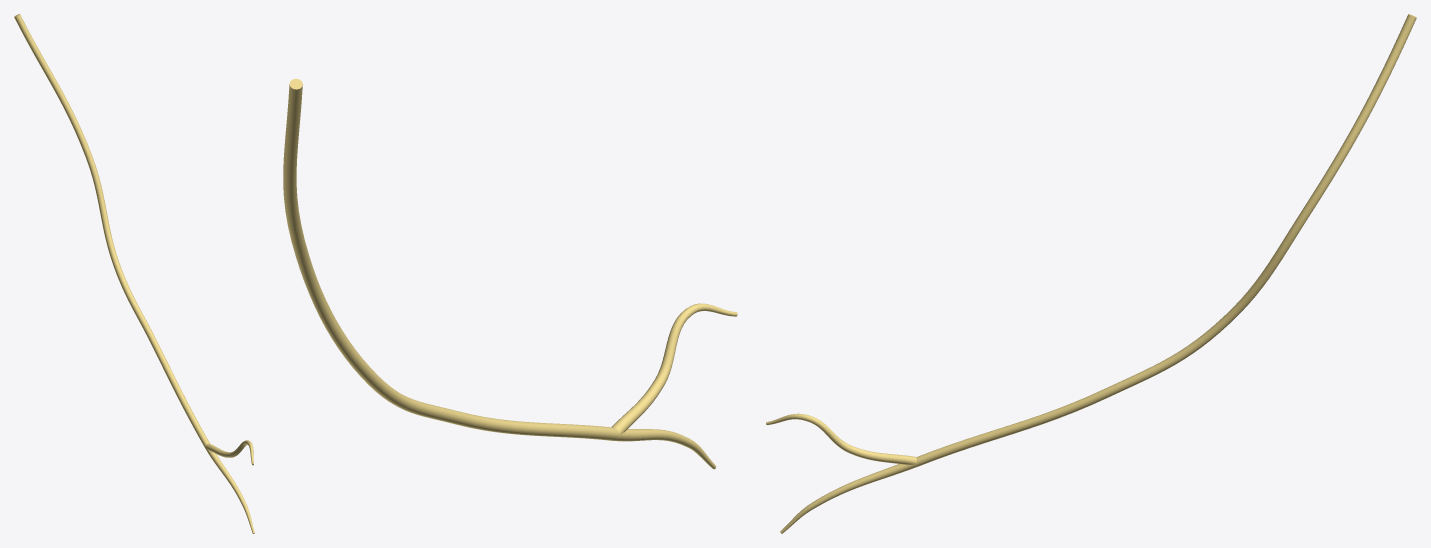
3 views of the same model, side by side, from view 1: azimuth 30°, elevation 25°; view 2: azimuth 150°, elevation 25°; view 3: azimuth 270°, elevation 25° (orthographic). The views are drawn at different scales.
Visible parts, largest first — view 1: ZA_e64922e48c2805ea; view 2: ZA_e64922e48c2805ea; view 3: ZA_e64922e48c2805ea.
Boxes of the visible parts, x1,y1,x2,y2 form: ZA_e64922e48c2805ea: (14, 14, 254, 533); ZA_e64922e48c2805ea: (283, 78, 737, 469); ZA_e64922e48c2805ea: (766, 14, 1416, 533).
Bounding box in the file's own units: 0.00426 × 0.0355 × 0.041.
